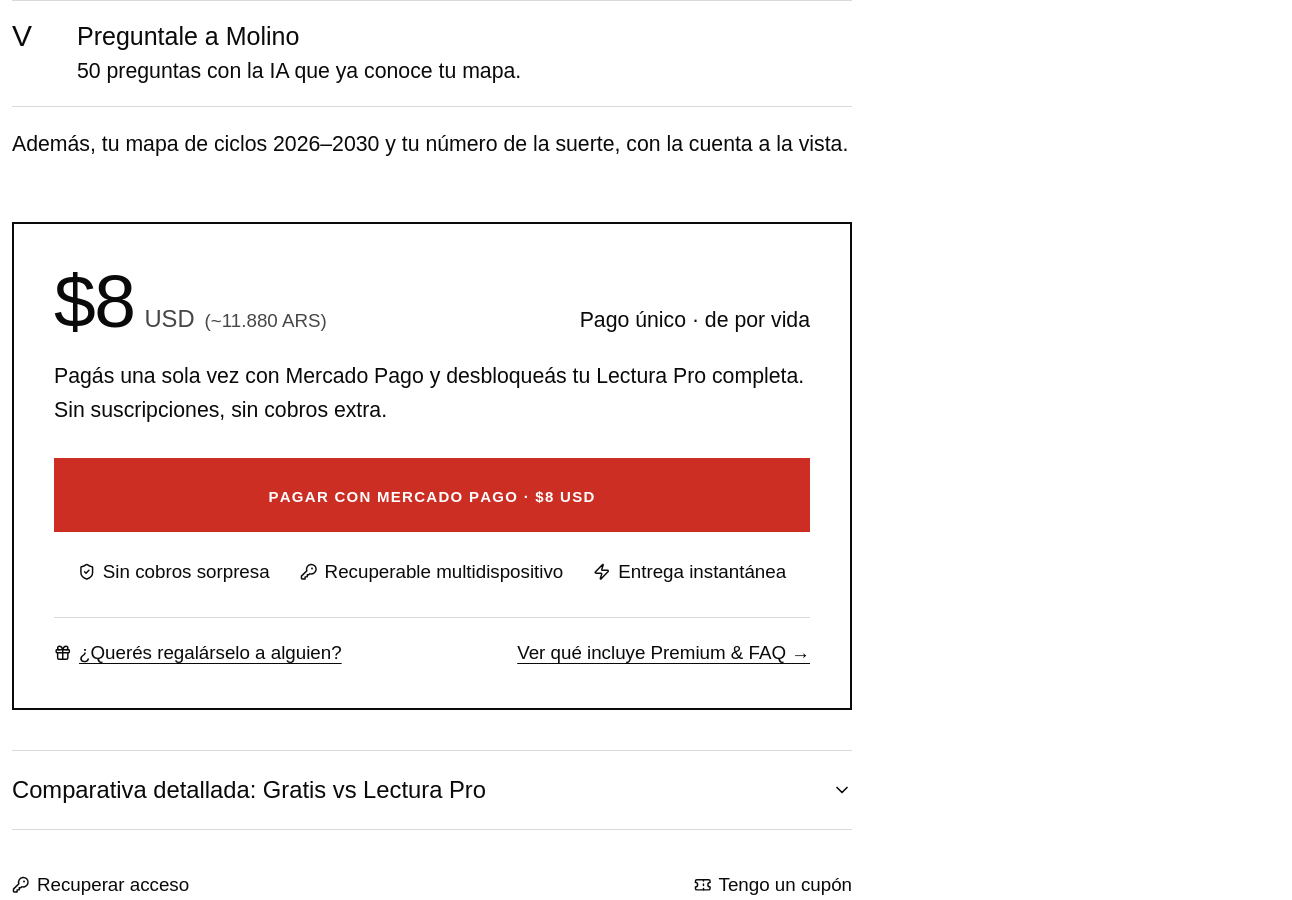
Test case: PremiumGate › TEST 10: applying a valid coupon → unlocks and shows children
(page scrolled)
Click the button "Tengo un cupón": (773, 885) [694, 870, 852, 899]
(page scrolled)
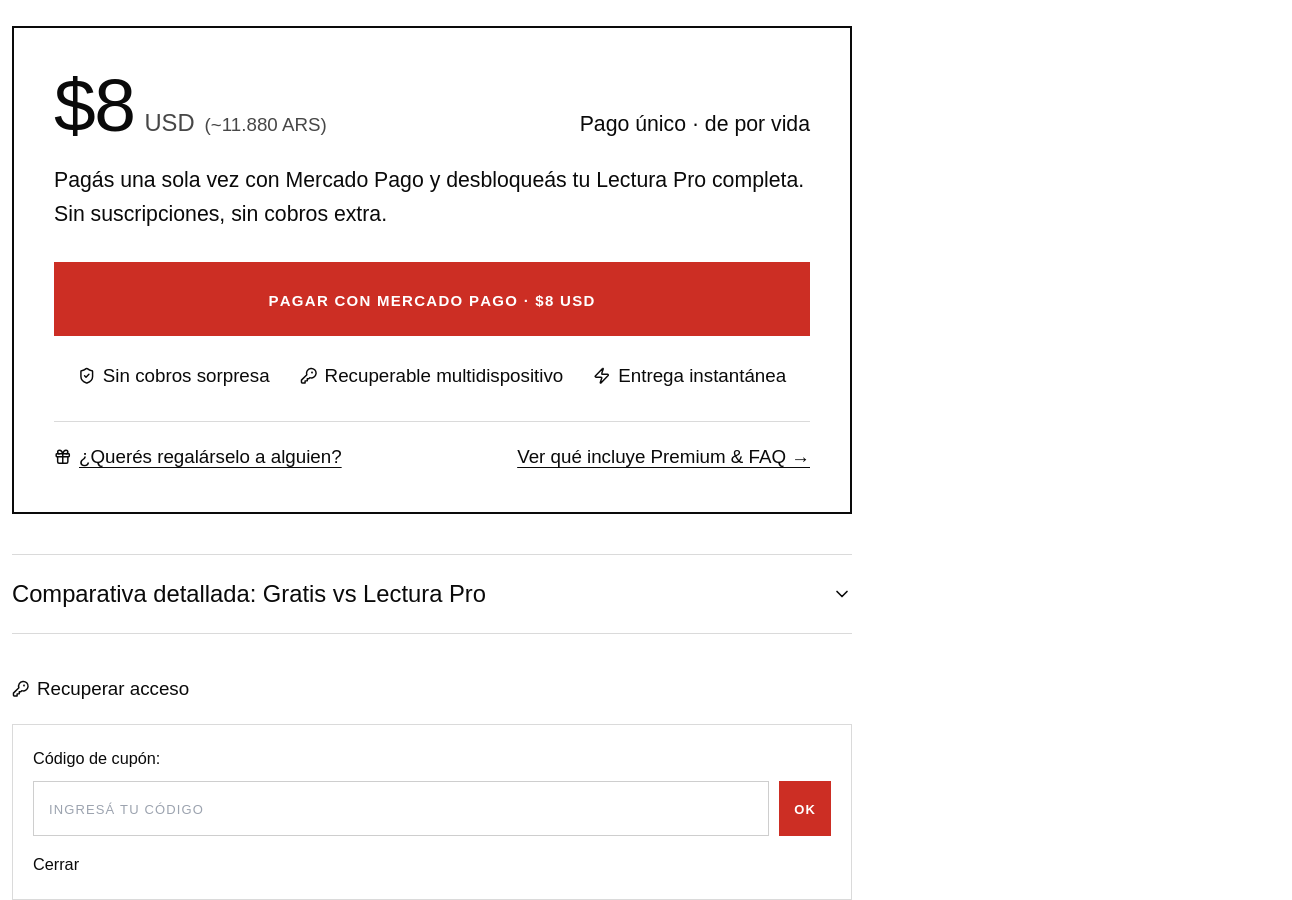
In the field labelled "Código de cupón:": (401, 808) [33, 781, 769, 836], type "MOLINO2026"
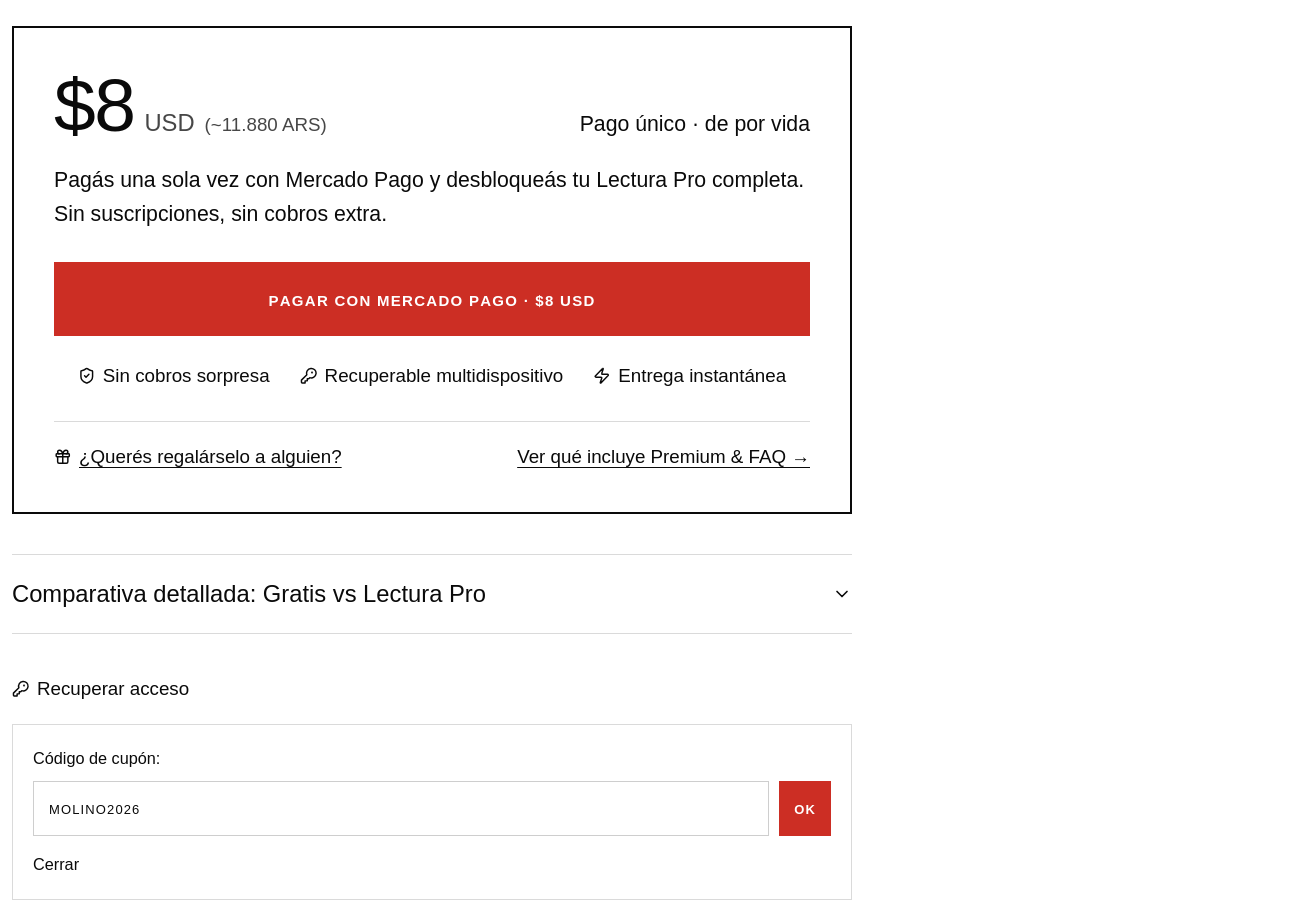
Click the button "OK": (805, 808) [779, 781, 831, 836]
(page scrolled)
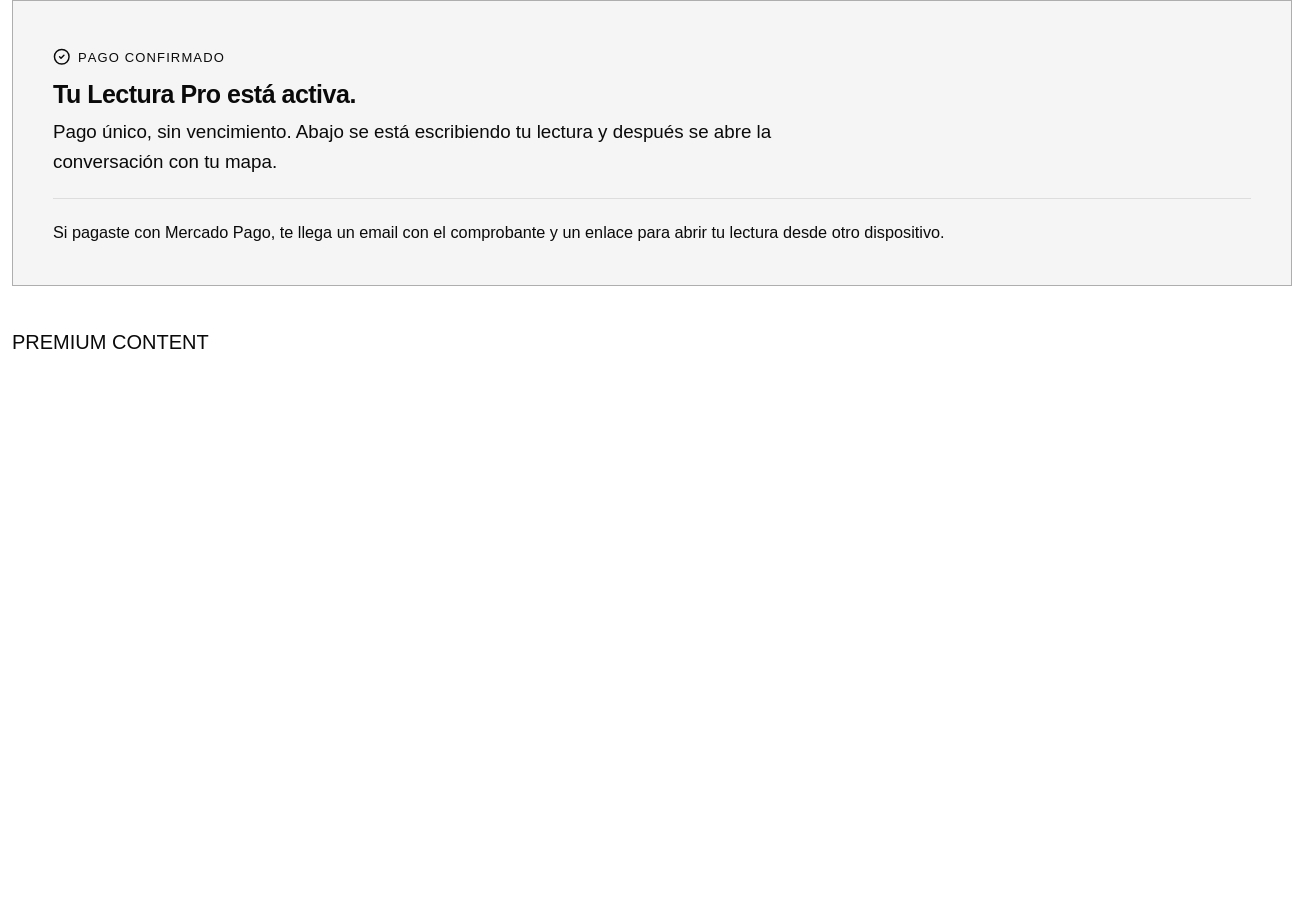
Expected: the text "PREMIUM CONTENT" is shown, [12, 331, 209, 353]
